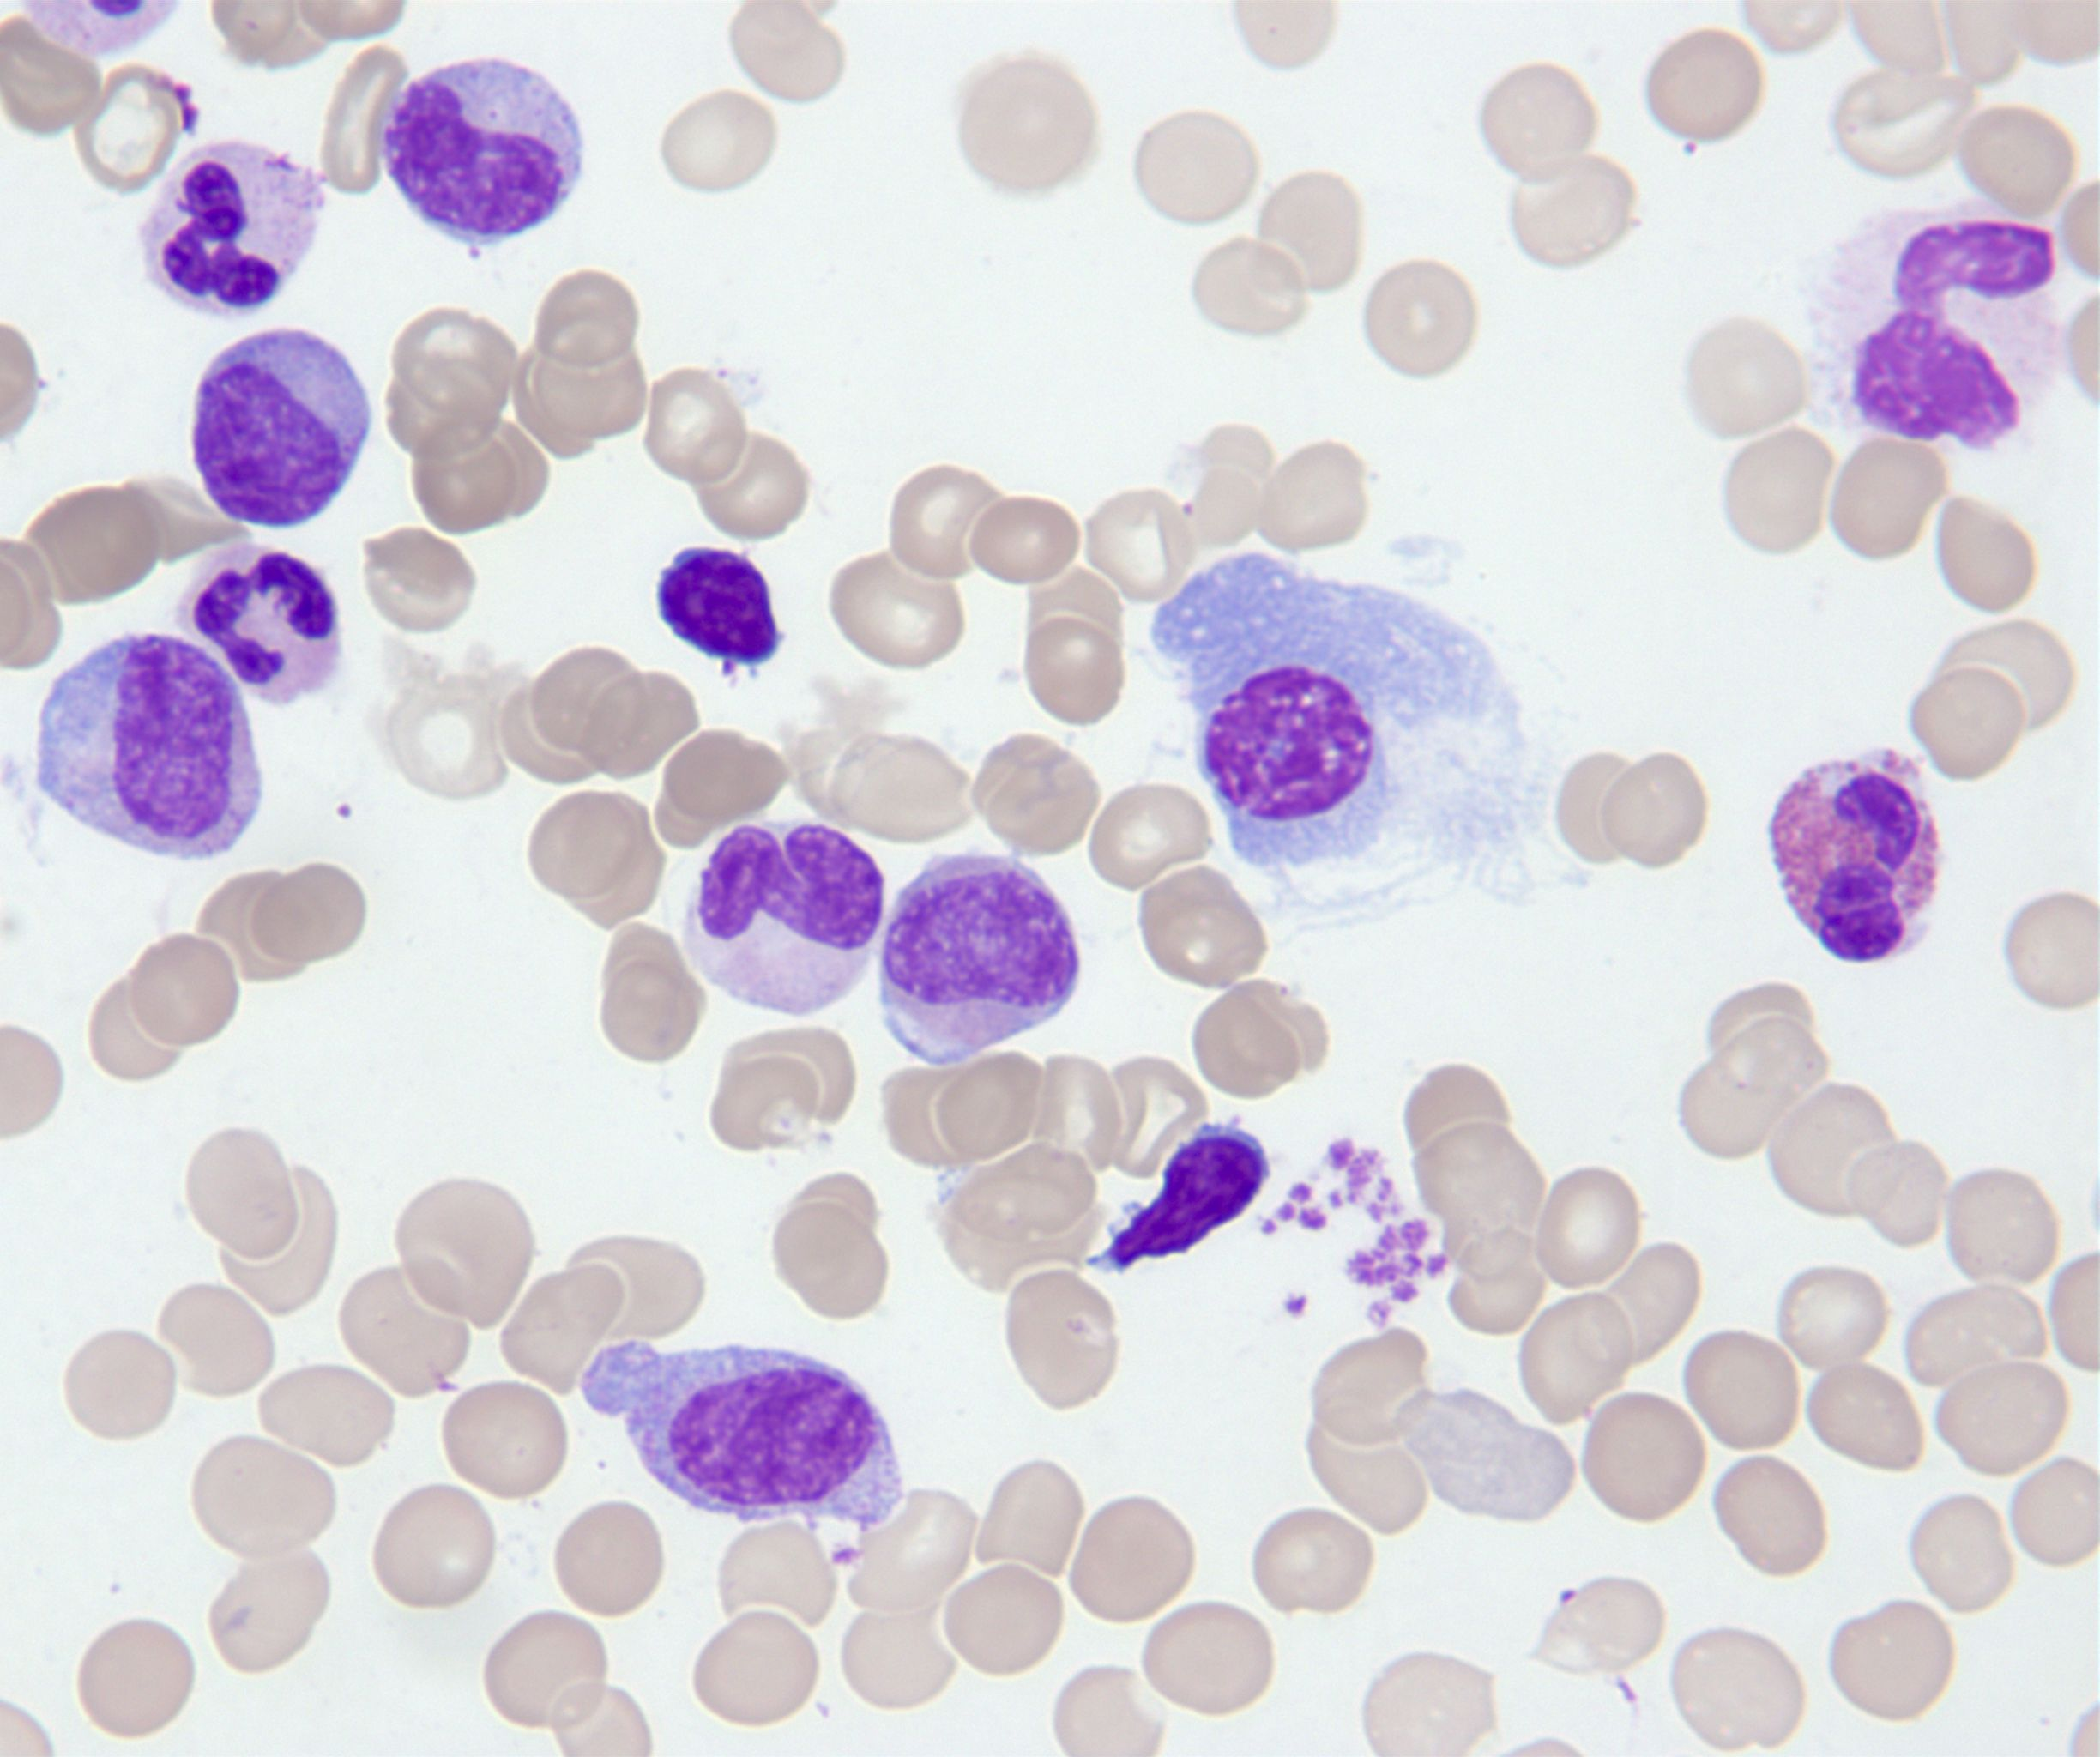3: (35, 637, 260, 858), (881, 853, 1080, 1064), (195, 332, 370, 525)
32: (1085, 1117, 1272, 1275), (658, 548, 783, 679)
4: (382, 59, 583, 250)
42: (583, 1342, 900, 1521)
52: (1155, 551, 1585, 916)
6: (682, 818, 886, 1017), (140, 145, 328, 319), (174, 544, 342, 705)
E4: (1769, 749, 1940, 963)
x: (1814, 199, 2065, 450)
